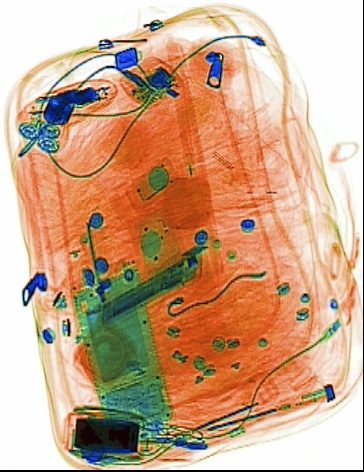powerbank: (97, 246, 203, 326)
